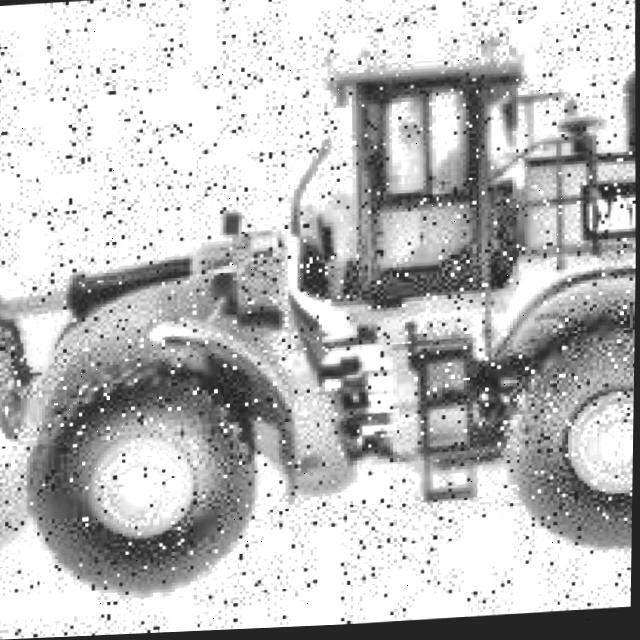buldozerpayloadergrader: (0, 40, 639, 615)
